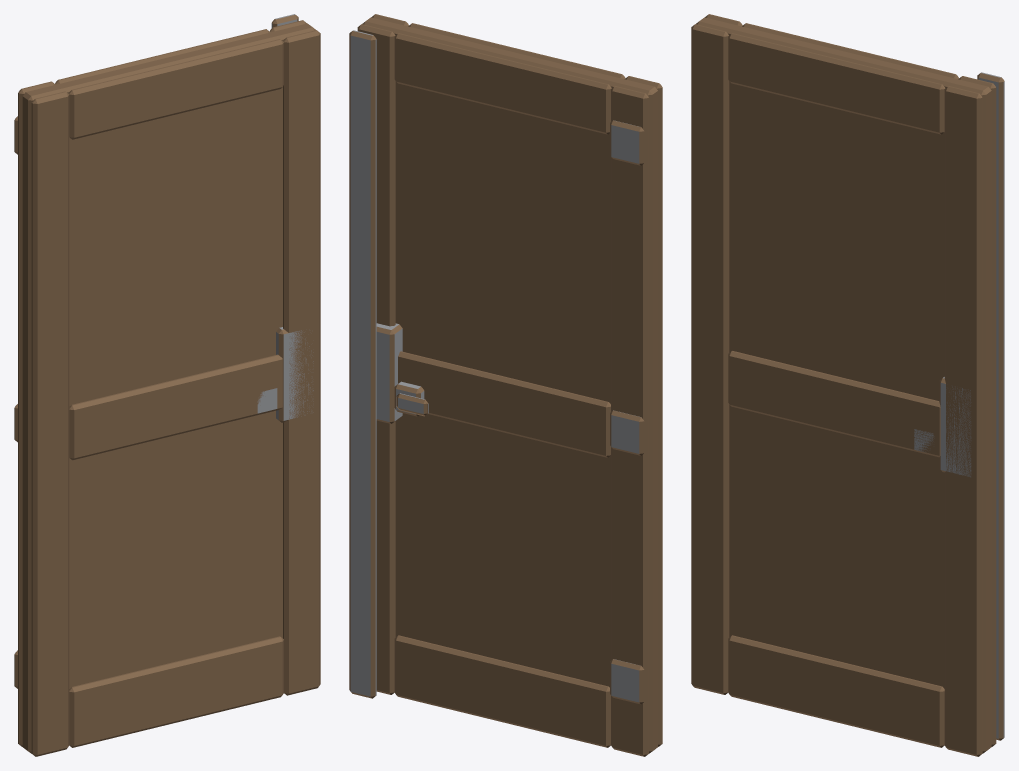
Rendered from Door_Panel_Lockable.fbx.
3 renders of one model, left to right at view 1: azimuth 30°, elevation 25°; view 2: azimuth 150°, elevation 25°; view 3: azimuth 330°, elevation 25°, orthographic.
Parts seen in each view (by area): view 1: Door_Panel_Lockable; view 2: Door_Panel_Lockable; view 3: Door_Panel_Lockable.
Part boxes in pixels (box(x1,y1,x2,y2)): Door_Panel_Lockable: box(14, 14, 320, 756); Door_Panel_Lockable: box(349, 14, 662, 756); Door_Panel_Lockable: box(691, 14, 1004, 756).
Bounding box in the file's own units: 110 × 240 × 17.5.
